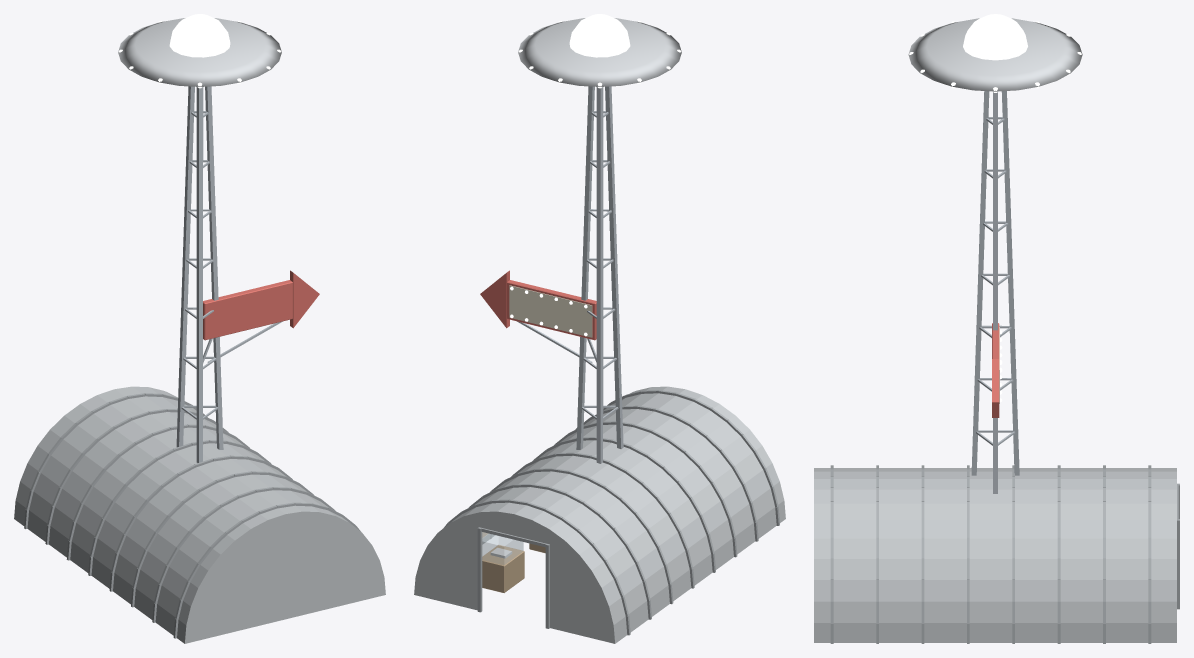
Rendered from diner_site.glb.
3 renders of one model, left to right at view 1: azimuth 30°, elevation 25°; view 2: azimuth 150°, elevation 25°; view 3: azimuth 270°, elevation 25°, orthographic. The views are drawn at different scales.
Visible parts, largest first — view 1: ds_museum_mesh, ds_tower_mesh; view 2: ds_museum_mesh, ds_tower_mesh; view 3: ds_museum_mesh, ds_tower_mesh.
Part boxes in pixels (x1,y1,x2,y2): ds_museum_mesh: (14,386,385,643); ds_tower_mesh: (118,14,319,462); ds_museum_mesh: (414,386,785,643); ds_tower_mesh: (480,14,681,463); ds_museum_mesh: (814,465,1179,643); ds_tower_mesh: (908,14,1082,493).
Bounding box in the file's own units: 7.47 × 17.45 × 10.08.
